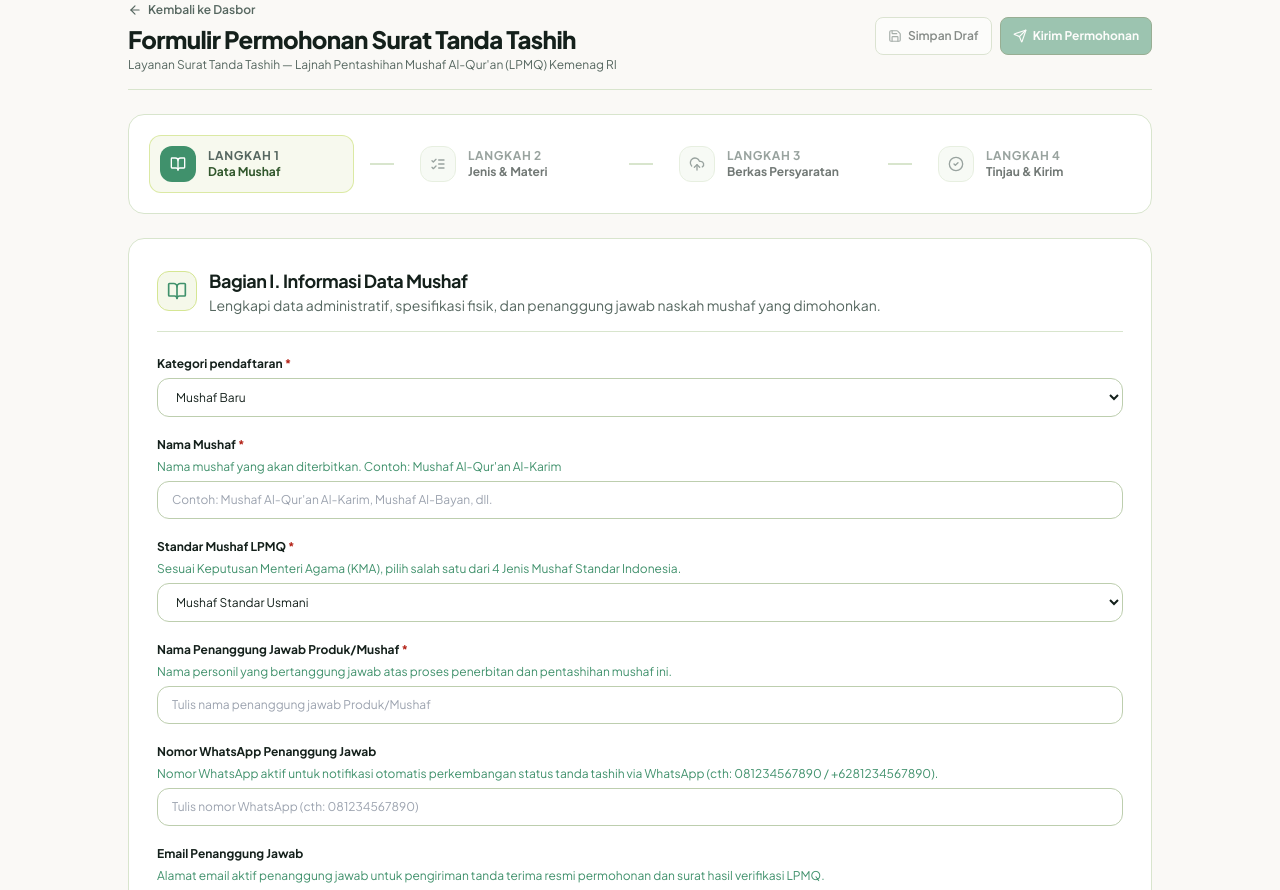
Test: Publisher new registration handoff › mewajibkan nama penanggung jawab sejak simpan draf
In the field labelled "Nama Mushaf *": (640,500) [157, 481, 1123, 519], type "Mushaf Baru"
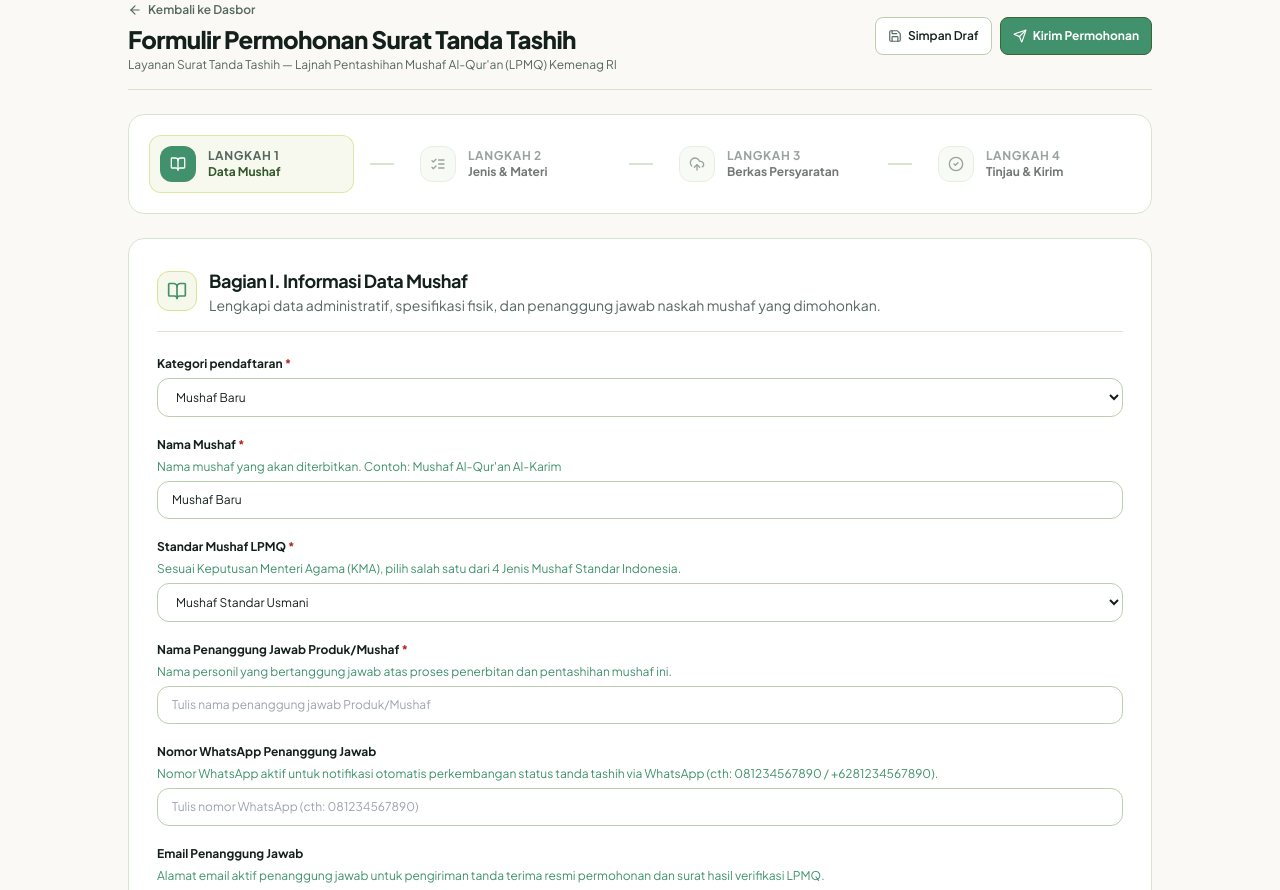
Click the button "Simpan Draf": (933,36) [875, 17, 992, 55]
(page scrolled)
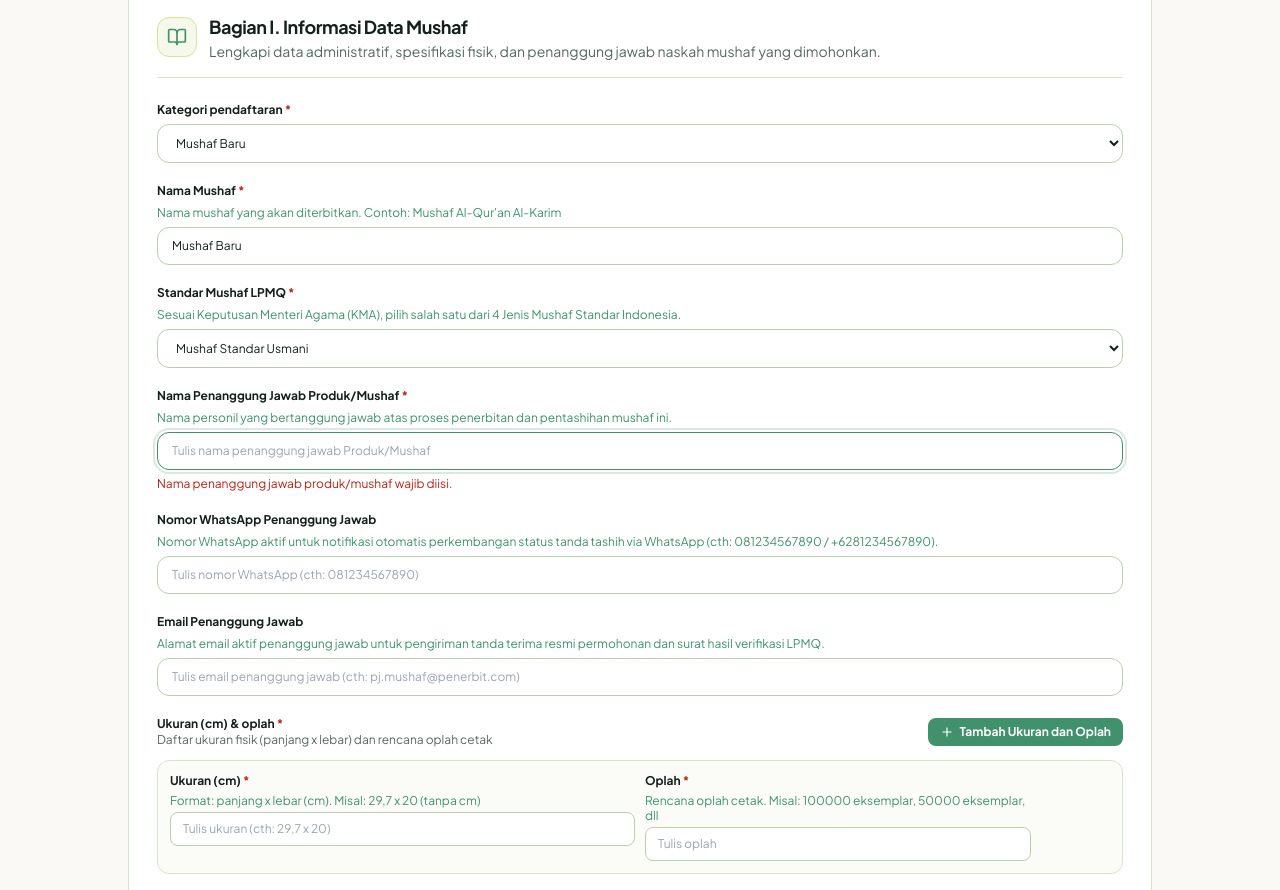
Expected: the text "Nama penanggung jawab produk/mushaf wajib diisi." is shown, [157, 476, 452, 491]
